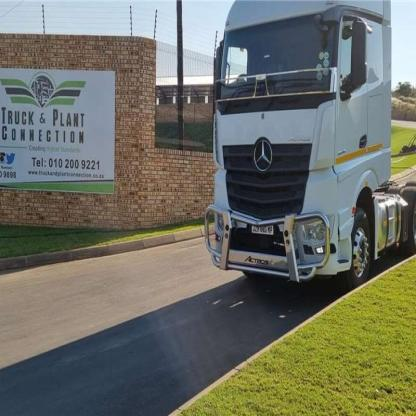dump_truck: (202, 2, 416, 305)
